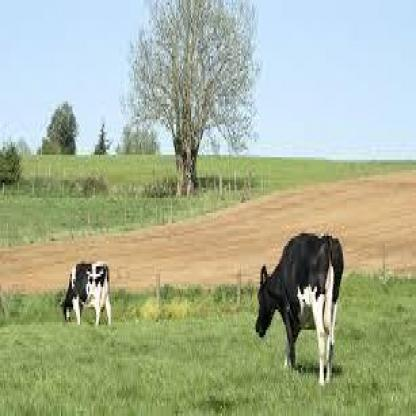cow: (255, 232, 344, 384), (59, 262, 112, 326)
